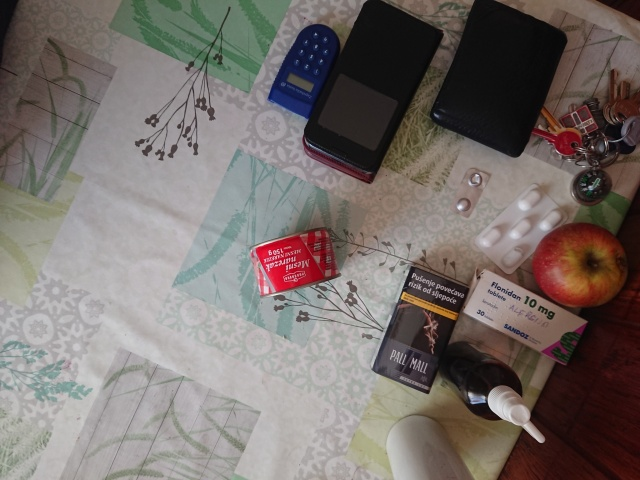Podravka Luncheon Meat 150g: (247, 224, 344, 300)
